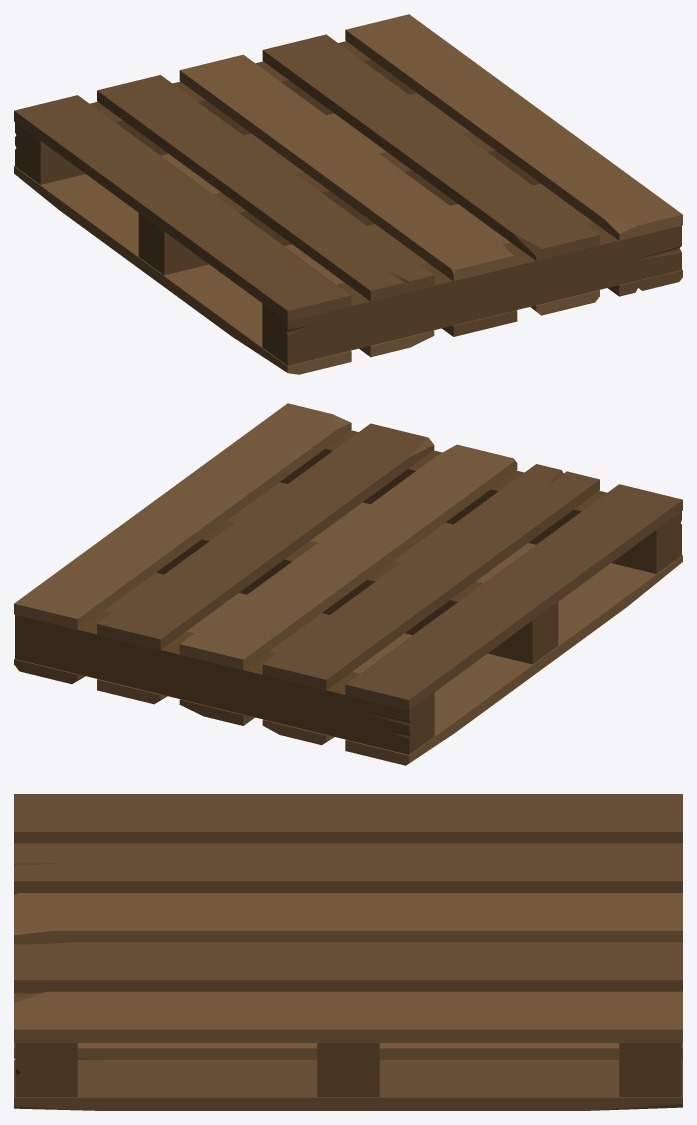
The model's file is SM_Prop_Pallet_02.obj.
3 renders of one model, top to bottom at view 1: azimuth 30°, elevation 25°; view 2: azimuth 150°, elevation 25°; view 3: azimuth 270°, elevation 25°, orthographic. The views are drawn at different scales.
Parts seen in each view (by area): view 1: SM_Prop_Pallet_02_Mat_SwatchOverlay_Farm_01_WoodRotated_Inst; view 2: SM_Prop_Pallet_02_Mat_SwatchOverlay_Farm_01_WoodRotated_Inst; view 3: SM_Prop_Pallet_02_Mat_SwatchOverlay_Farm_01_WoodRotated_Inst.
Part boxes in pixels (<box>): SM_Prop_Pallet_02_Mat_SwatchOverlay_Farm_01_WoodRotated_Inst: <box>14,14,682,374</box>; SM_Prop_Pallet_02_Mat_SwatchOverlay_Farm_01_WoodRotated_Inst: <box>14,403,682,765</box>; SM_Prop_Pallet_02_Mat_SwatchOverlay_Farm_01_WoodRotated_Inst: <box>14,794,682,1110</box>.
Bounding box in the file's own units: 1.25 × 0.2009 × 1.5.
Materials: 1 (1 with a texture image).
